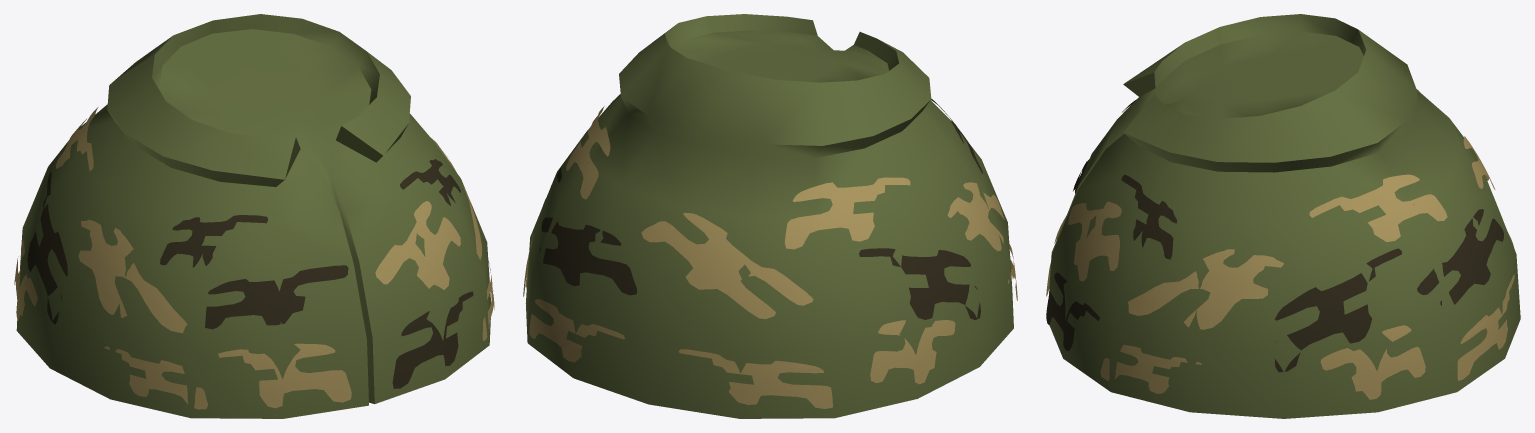
The picture shows the model from 3 angles, left to right: view 1: azimuth 30°, elevation 25°; view 2: azimuth 150°, elevation 25°; view 3: azimuth 270°, elevation 25°; orthographic projection. The views are drawn at different scales.
Parts seen in each view (by area): view 1: shirt_camo; view 2: shirt_camo; view 3: shirt_camo.
Boxes of the visible parts, x1=… form: shirt_camo: x1=14, y1=14, x2=494, y2=418; shirt_camo: x1=523, y1=14, x2=1017, y2=418; shirt_camo: x1=1046, y1=14, x2=1520, y2=418.
Bounding box in the file's own units: 1.39 × 0.8732 × 1.39.
